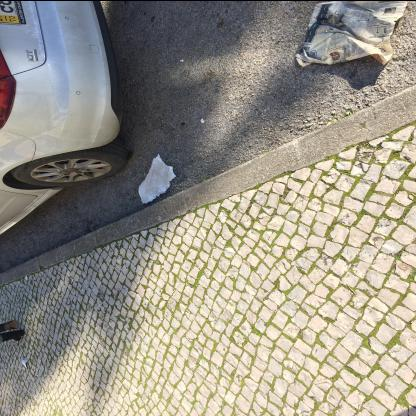kagit: (292, 0, 408, 68), (22, 358, 28, 368)
kopuk: (138, 152, 176, 202)
